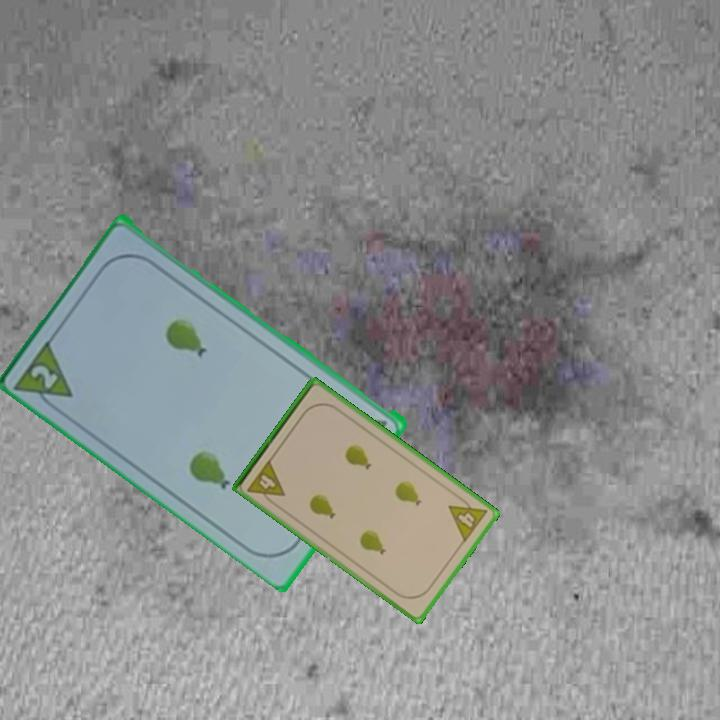2p: (27, 361, 62, 392)
4p: (445, 491, 490, 545), (244, 456, 288, 509)
